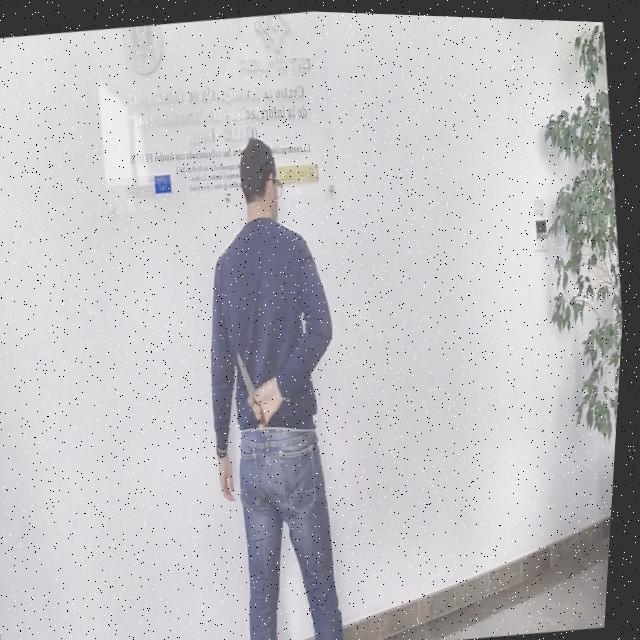knife: (233, 344, 260, 393)
